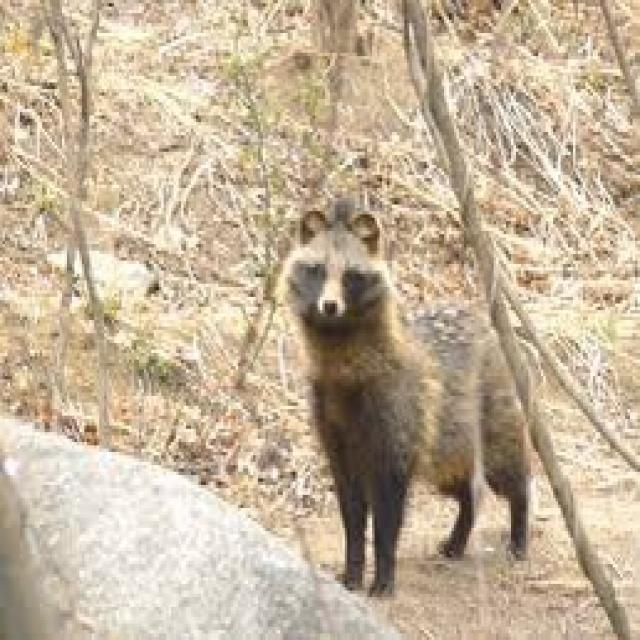racoon: (282, 203, 560, 576)
